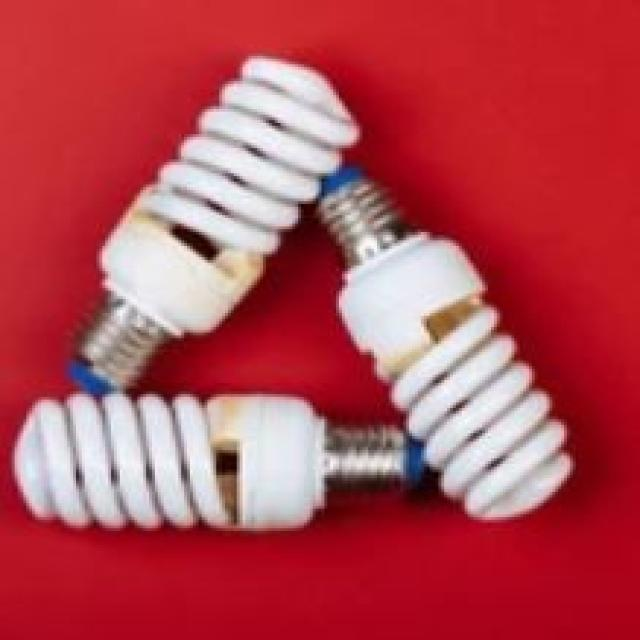electronic: (9, 53, 573, 534), (68, 53, 360, 391), (312, 162, 572, 520)
